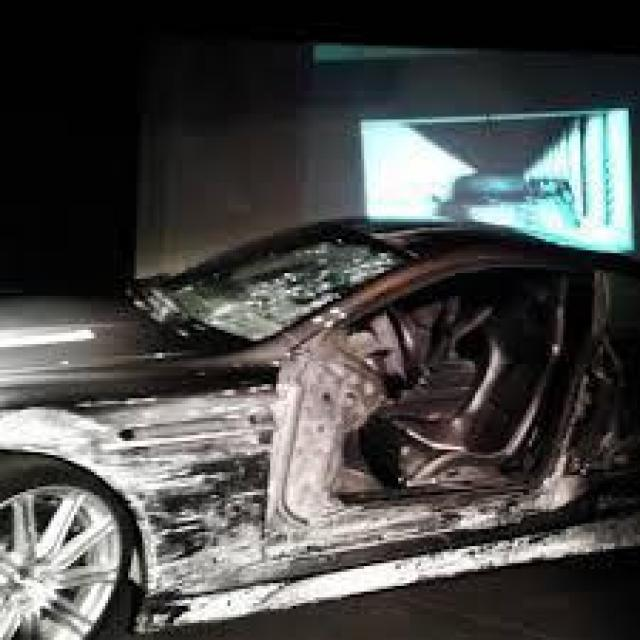damaged: (45, 225, 638, 634)
